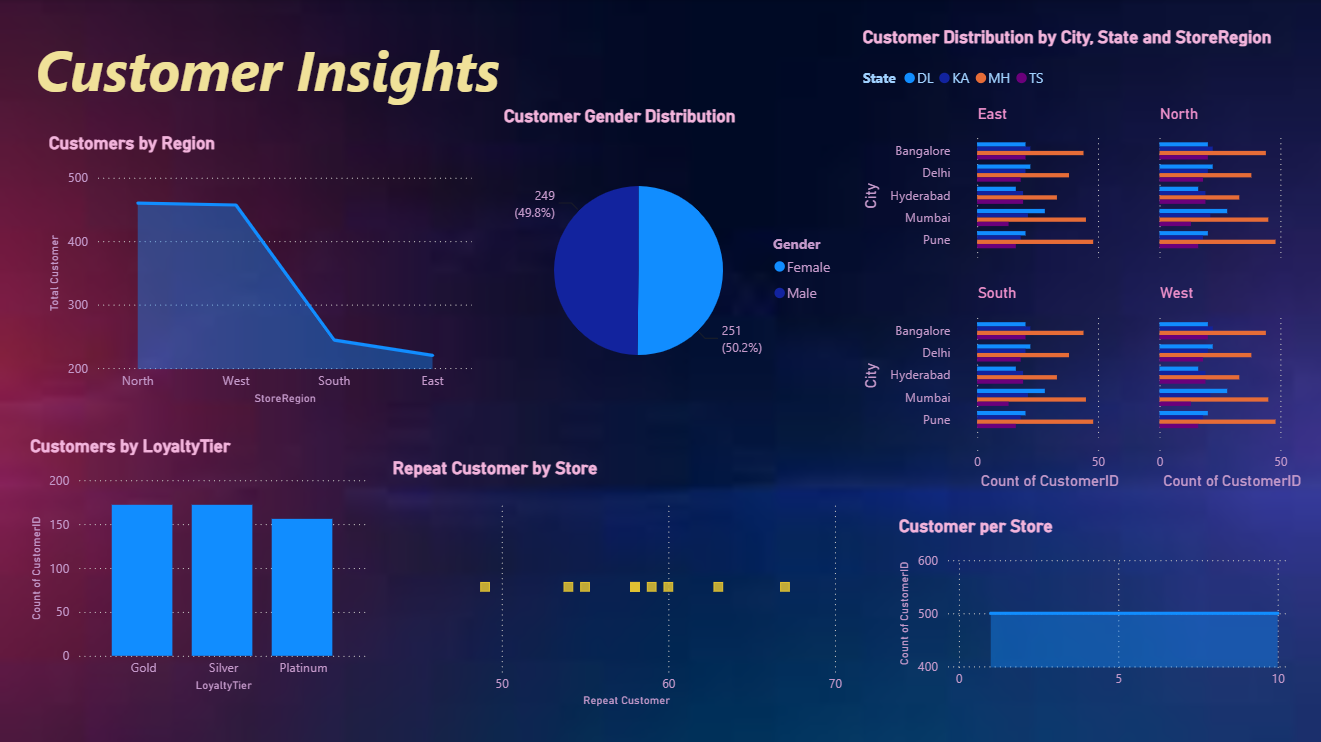

This screenshot's page, from the dashboard's own definition file:
{"tool":"powerbi","page":{"name":"Customer Insights","canvas":[1280,720],"ordinal":4},"visuals":[{"type":"pieChart","title":"Customer Gender Distribution","fields":{"Category":["Customer_Dim.Gender"],"Y":["CountNonNull(Customer_Dim.CustomerID)"]},"box":[487.8,102.4,325.7,284.4],"z":0},{"type":"columnChart","title":"Customers by LoyaltyTier","fields":{"Category":["Customer_Dim.LoyaltyTier"],"Y":["CountNonNull(Customer_Dim.CustomerID)"]},"box":[29.9,421,325.7,247.5],"z":1},{"type":"areaChart","title":"Customers by Region","fields":{"Category":["Store_Dim.StoreRegion"],"Y":["Measures (2).Total Customer"]},"box":[48.4,129.4,408.2,261.7],"z":2},{"type":"scatterChart","title":"Repeat Customer by Store","fields":{"Category":["Store_Dim.StoreID"],"X":["Measures (2).Repeat Customer"]},"box":[379.7,442.3,433.8,240.4],"z":3},{"type":"clusteredBarChart","title":"Customer Distribution by City, State and StoreRegion","fields":{"Category":["Customer_Dim.City"],"Rows":["Store_Dim.StoreRegion"],"Series":["Customer_Dim.State"],"Y":["CountNonNull(Customer_Dim.CustomerID)"]},"box":[833.4,27,446.6,448],"z":4},{"type":"areaChart","title":"Customer per Store","fields":{"Category":["Store_Dim.StoreID"],"Y":["CountNonNull(Customer_Dim.CustomerID)"]},"box":[869,497.8,375.5,170.7],"z":5},{"type":"textbox","box":[29.9,27,473.6,96.7],"z":6}]}

Visuals, with their boxes in screenshot pixels (x1, y1, x2, y2), scaled from the page's 1280x720 canvas onto the 1321x742 screenshot:
"Customer Gender Distribution" pieChart: detection(503, 106, 840, 399)
"Customers by LoyaltyTier" columnChart: detection(31, 434, 367, 689)
"Customers by Region" areaChart: detection(50, 133, 471, 403)
"Repeat Customer by Store" scatterChart: detection(392, 456, 840, 704)
"Customer Distribution by City, State and StoreRegion" clusteredBarChart: detection(860, 28, 1320, 490)
"Customer per Store" areaChart: detection(897, 513, 1284, 689)
textbox: detection(31, 28, 520, 127)
